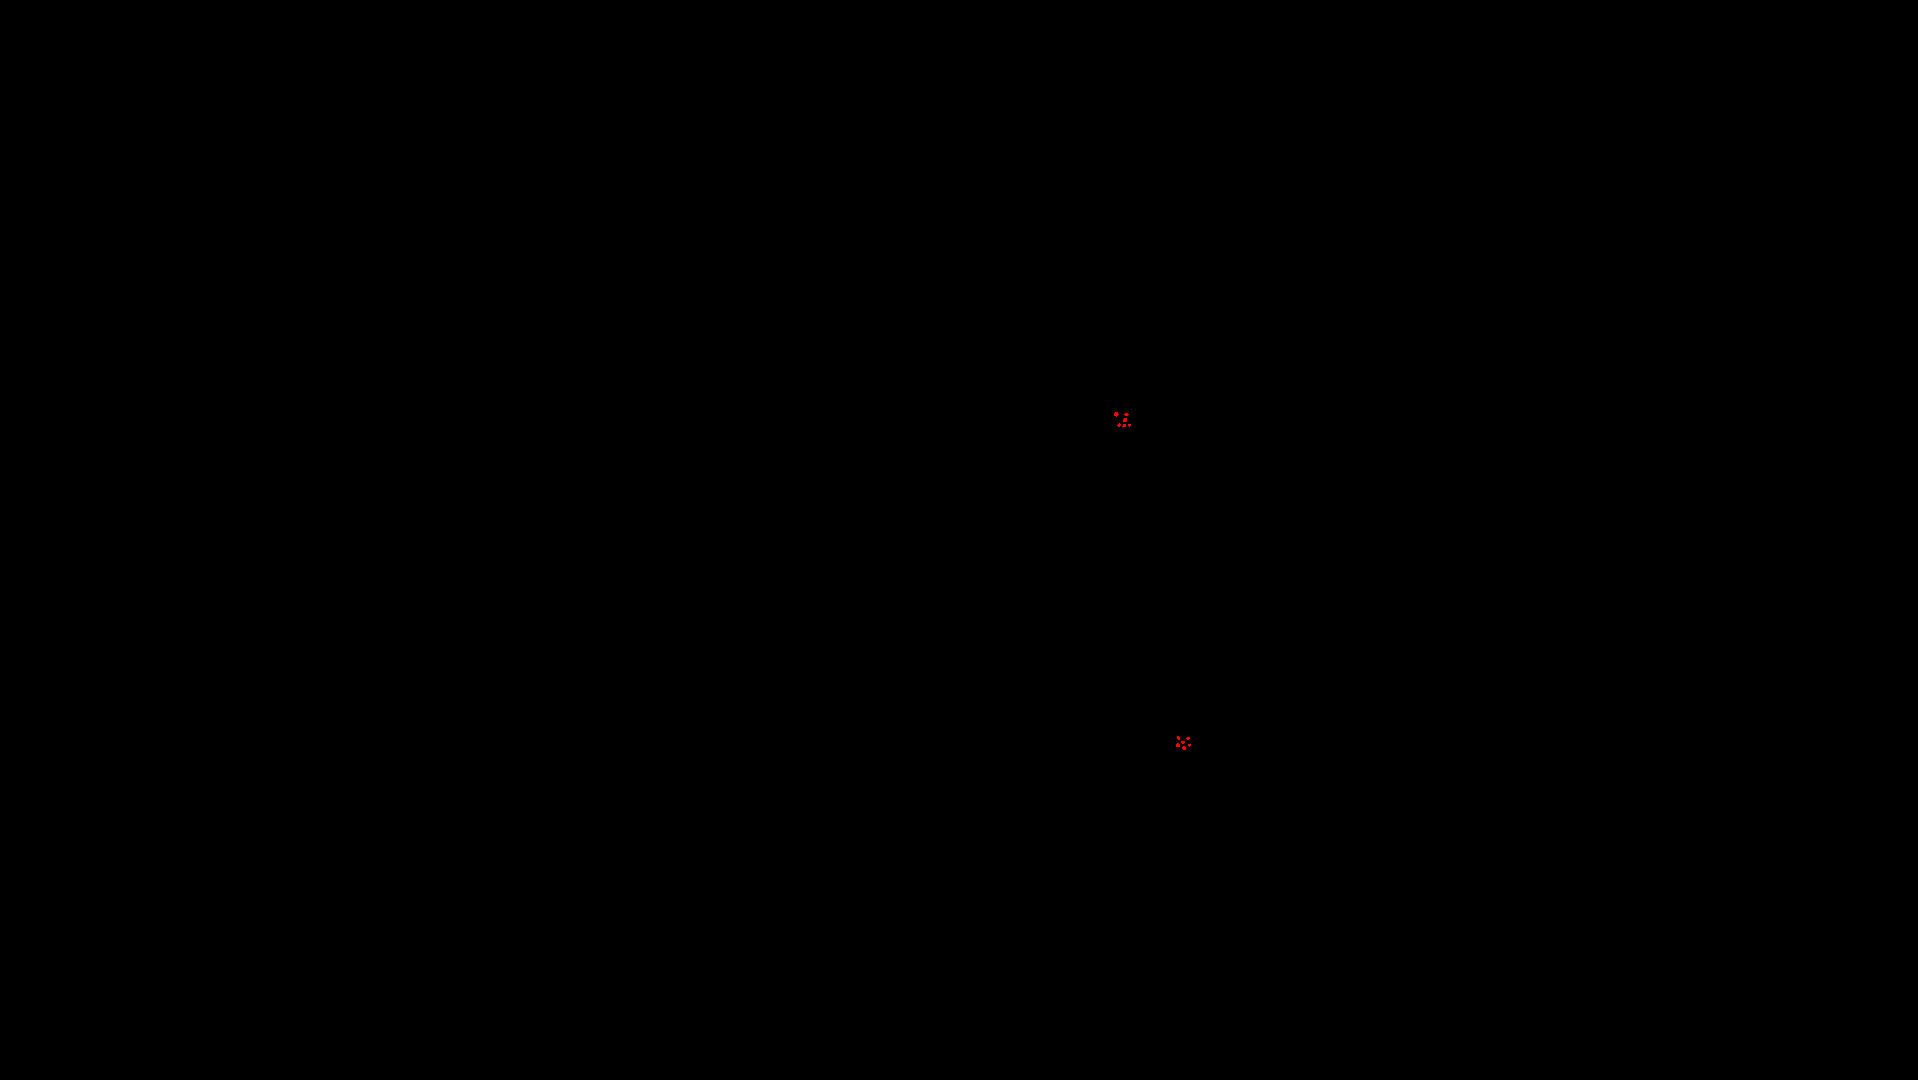Target: (1114, 412, 1118, 418), (1122, 418, 1128, 421), (1117, 423, 1121, 427), (1176, 736, 1180, 740), (1176, 743, 1180, 747), (1182, 745, 1186, 749), (1124, 414, 1129, 416), (1122, 424, 1126, 427), (1128, 424, 1132, 427), (1186, 738, 1190, 740), (1182, 742, 1186, 744), (1188, 744, 1191, 747)
